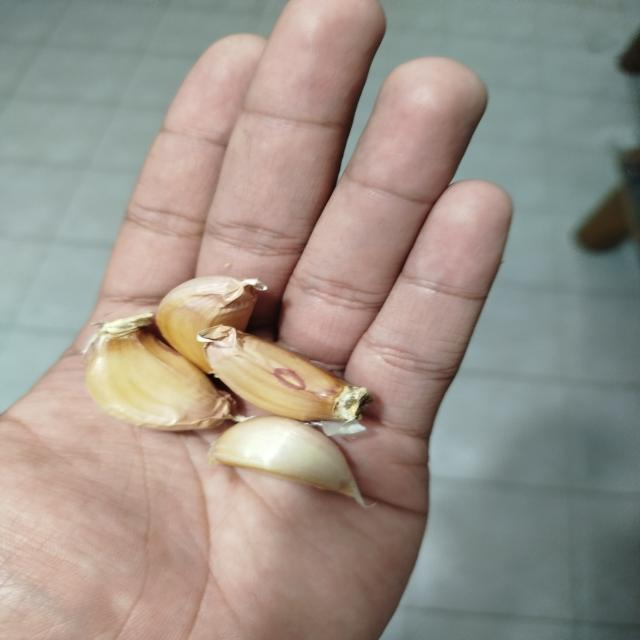garlic: (81, 312, 241, 432), (196, 323, 372, 422), (207, 415, 377, 509), (154, 274, 268, 376)
